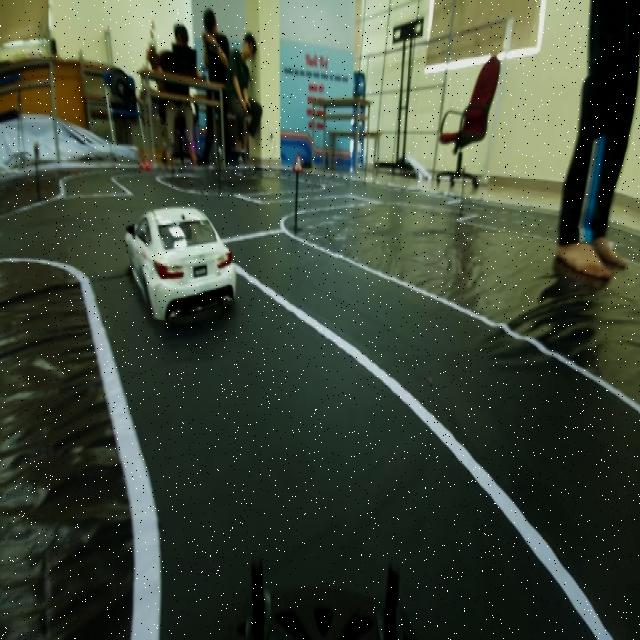car: (120, 205, 246, 332)
